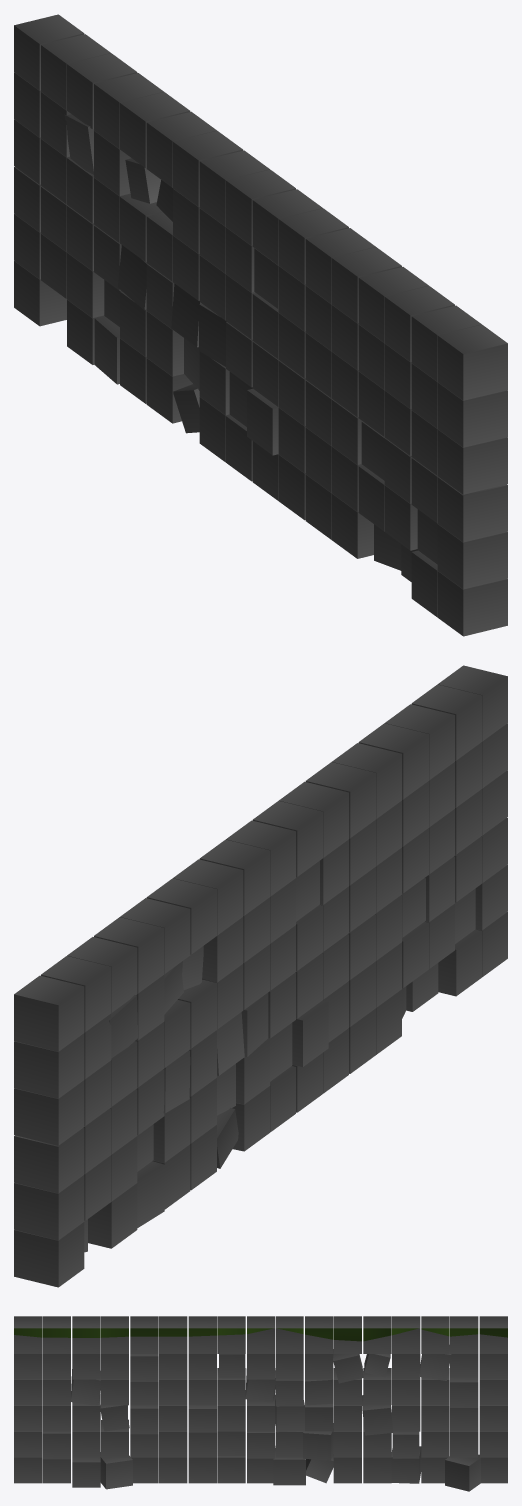
File: Wall.fbx
The picture shows the model from 3 angles, top to bottom: view 1: azimuth 30°, elevation 25°; view 2: azimuth 150°, elevation 25°; view 3: azimuth 270°, elevation 25°; orthographic projection. The views are drawn at different scales.
Visible parts, largest first — view 1: Wall; view 2: Wall; view 3: Wall.
Part boxes in pixels (x1,y1,x2,y2): Wall: (14,14,507,636); Wall: (14,665,507,1287); Wall: (14,1316,507,1491).
Bounding box in the file's own units: 1.83 × 6.15 × 17.46.
